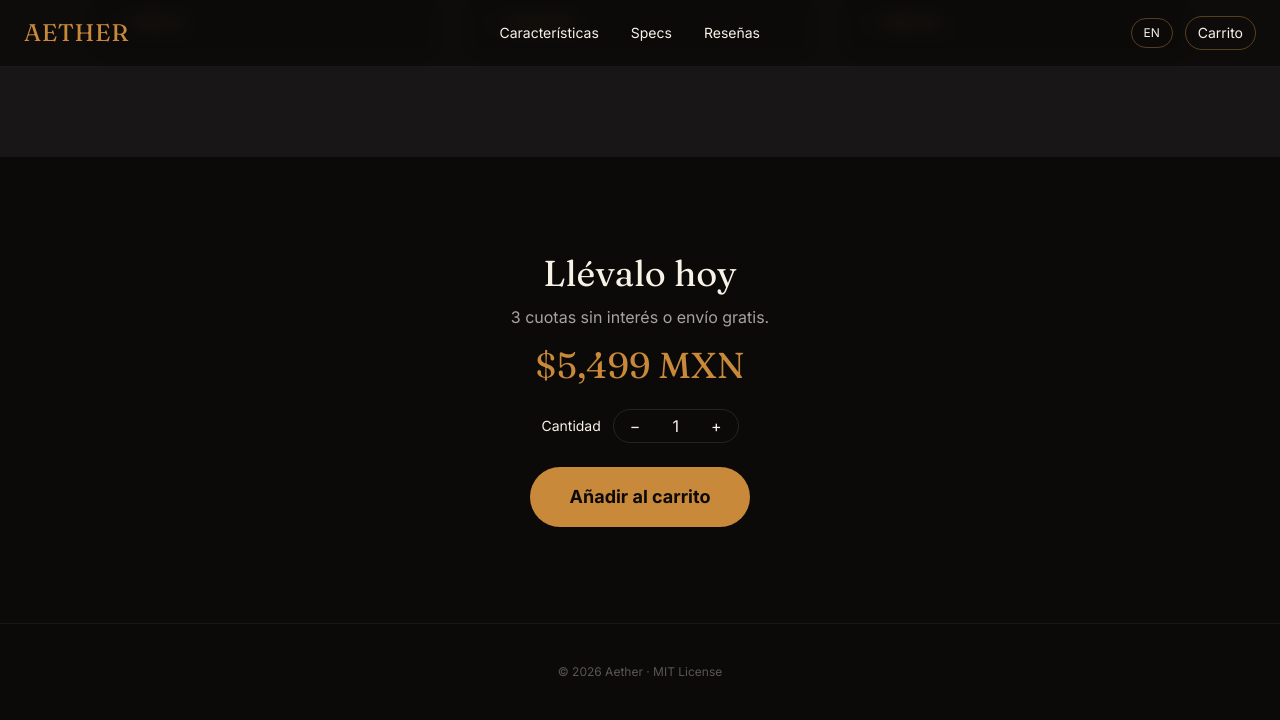
Scenario: Aether H1 landing › adds the selected quantity to the cart
(page scrolled)
Step 1. Click the button named "Increase quantity" → point(716, 426), box [695,410,738,442]
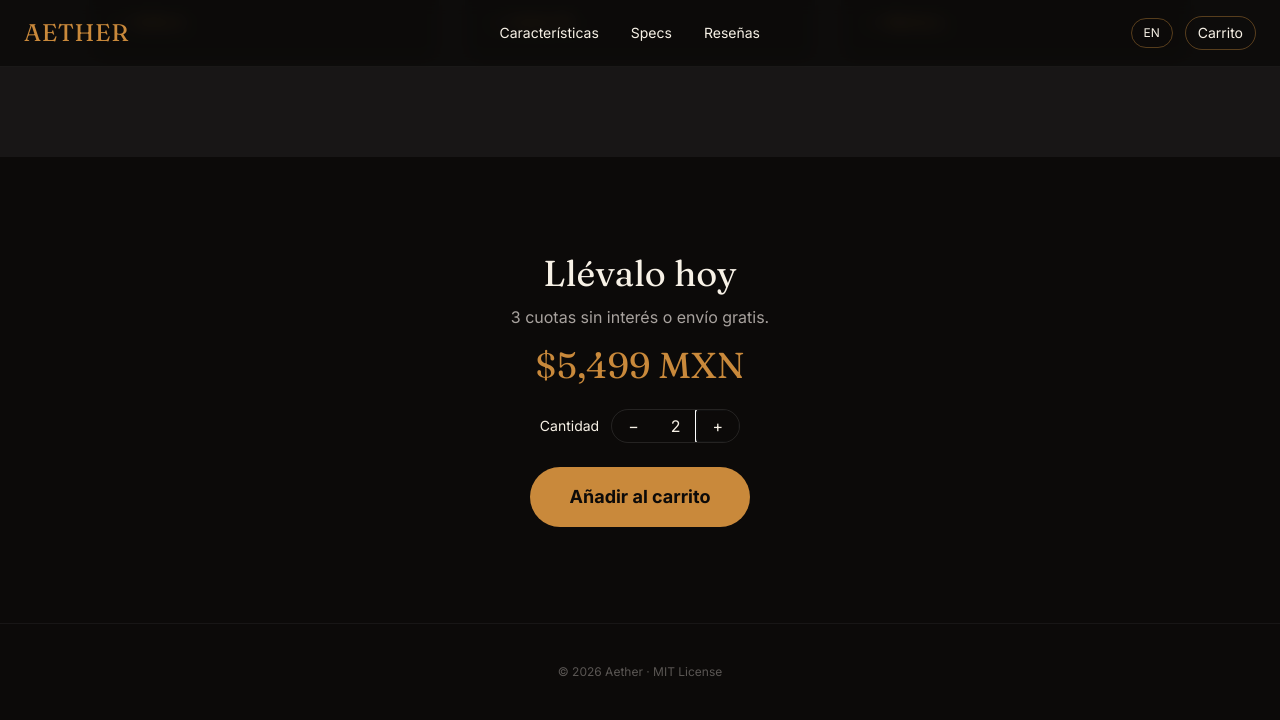
Step 2. Click the button named "Increase quantity" → point(718, 426), box [696,410,739,442]
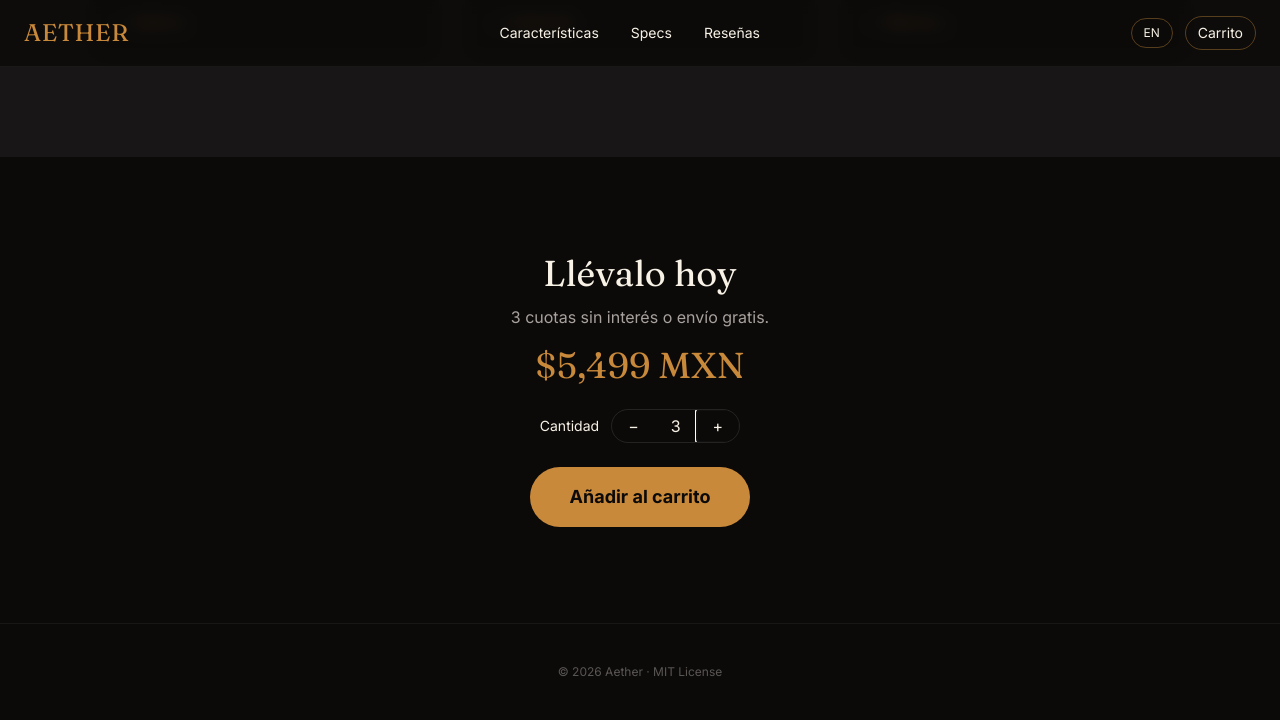
Step 3. Click the button "Añadir al carrito" → point(640, 497), box [530,467,750,527]
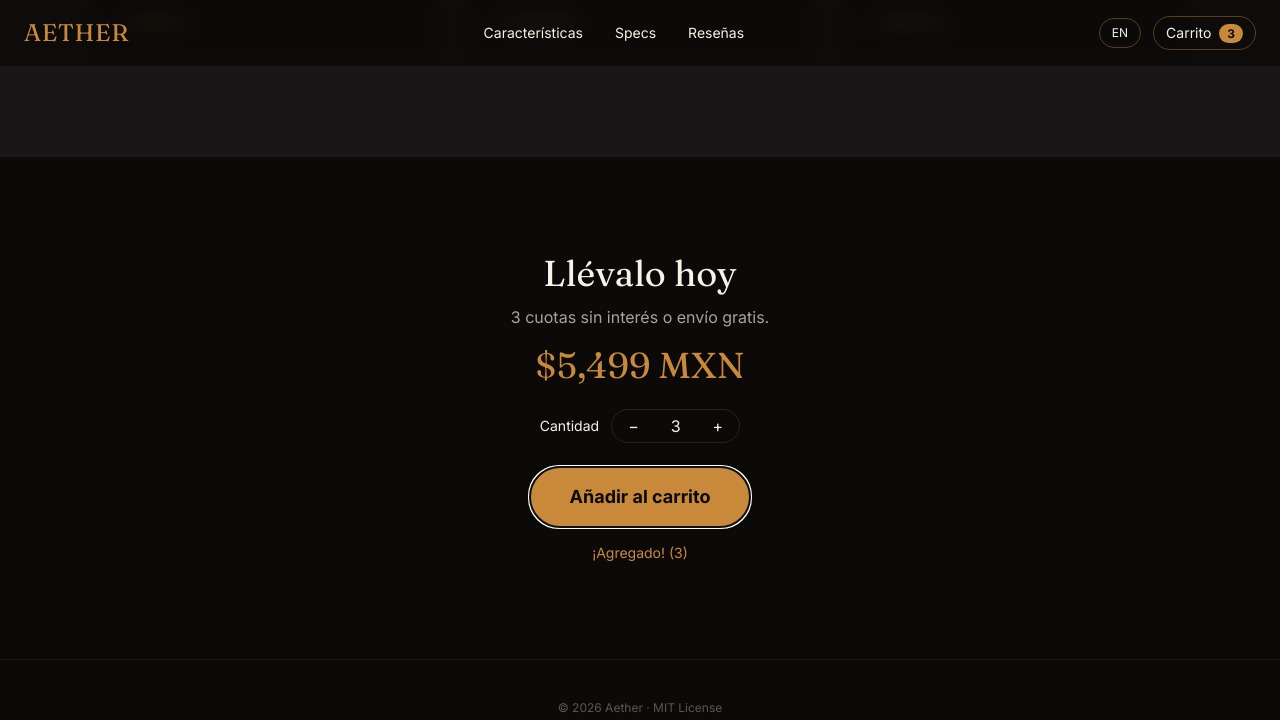
Expected: the button "Carrito 3" is shown, [1153,16,1256,50]
